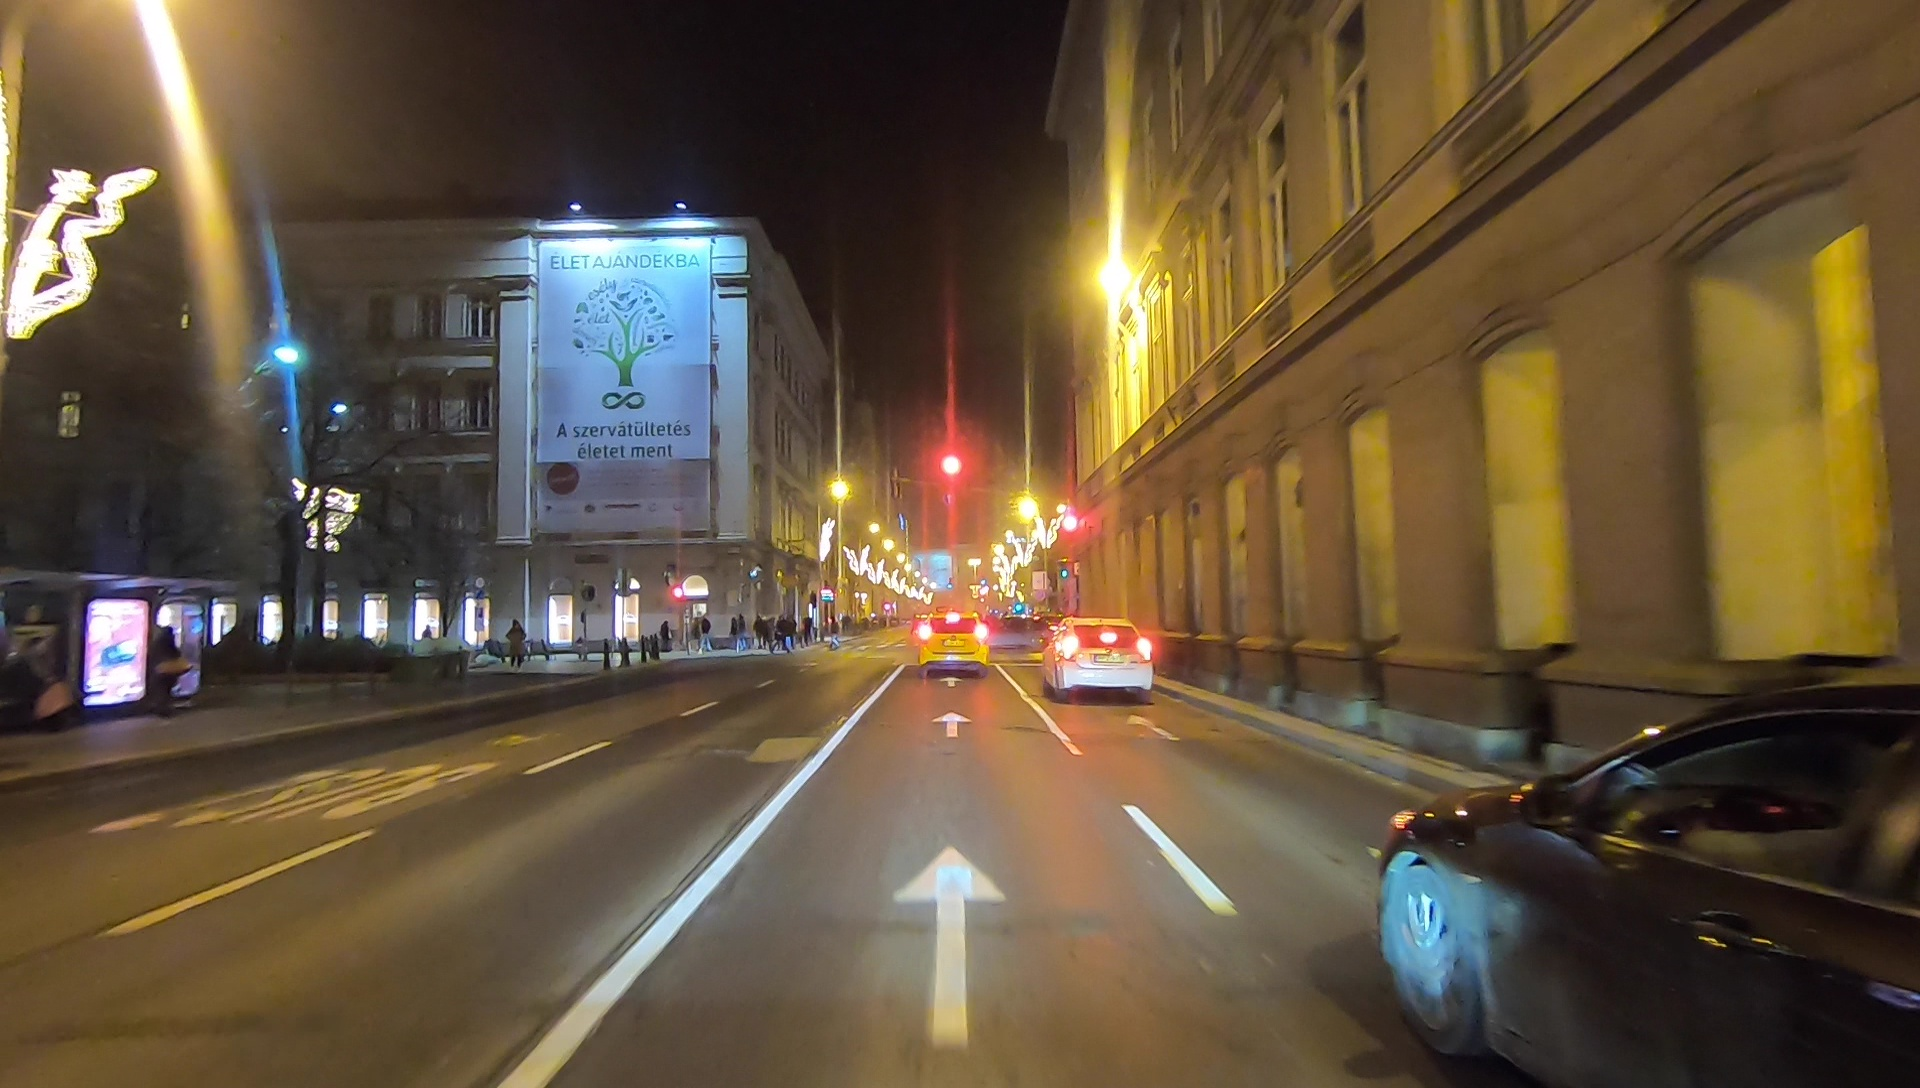person: (506, 619, 528, 669), (693, 611, 710, 654), (752, 615, 769, 652), (780, 615, 797, 652), (728, 617, 745, 649)
